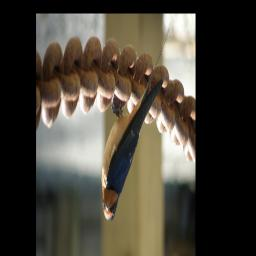Swallow: (101, 21, 172, 222)
